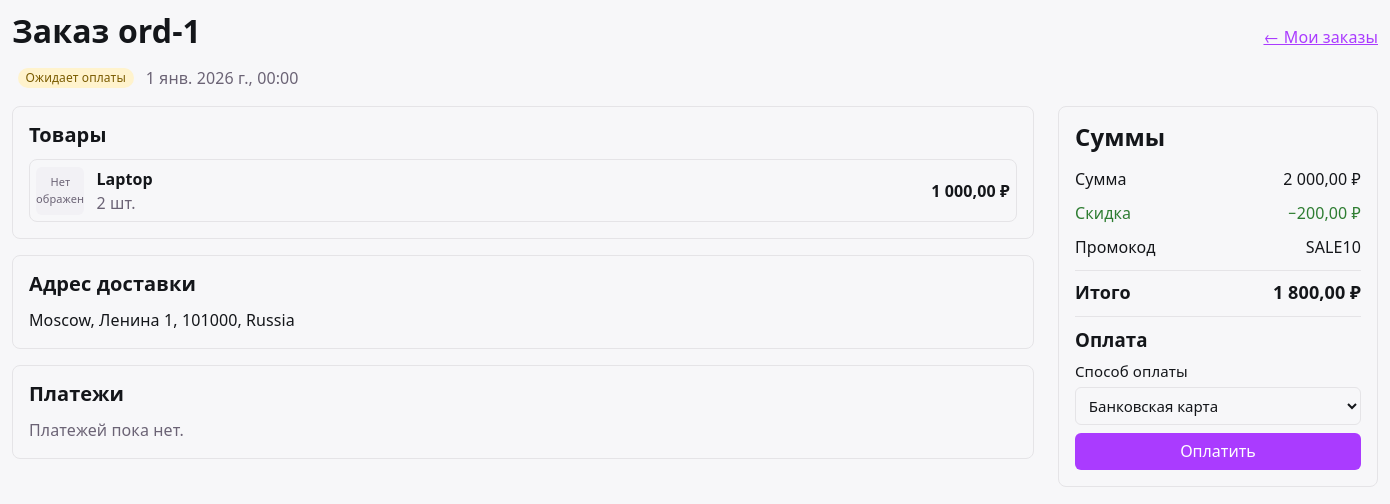
Test: OrderDetailPage › успешная оплата: payOrder, обновление заказа и toast
expect the heading "Заказ ord-1" is shown: met, box [12,12,201,50]
Select "Банковский перевод" in the dropdown labelled "Способ оплаты" at (1218, 406), box [1075,387,1361,425]
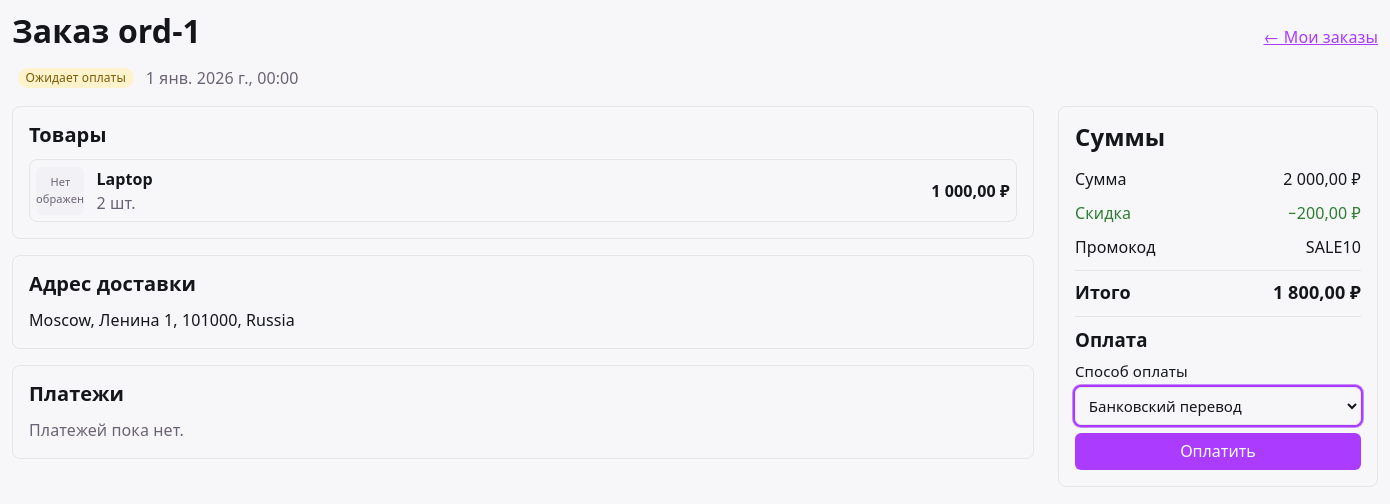
Click the button "Оплатить" at (1218, 452), box [1075,433,1361,470]
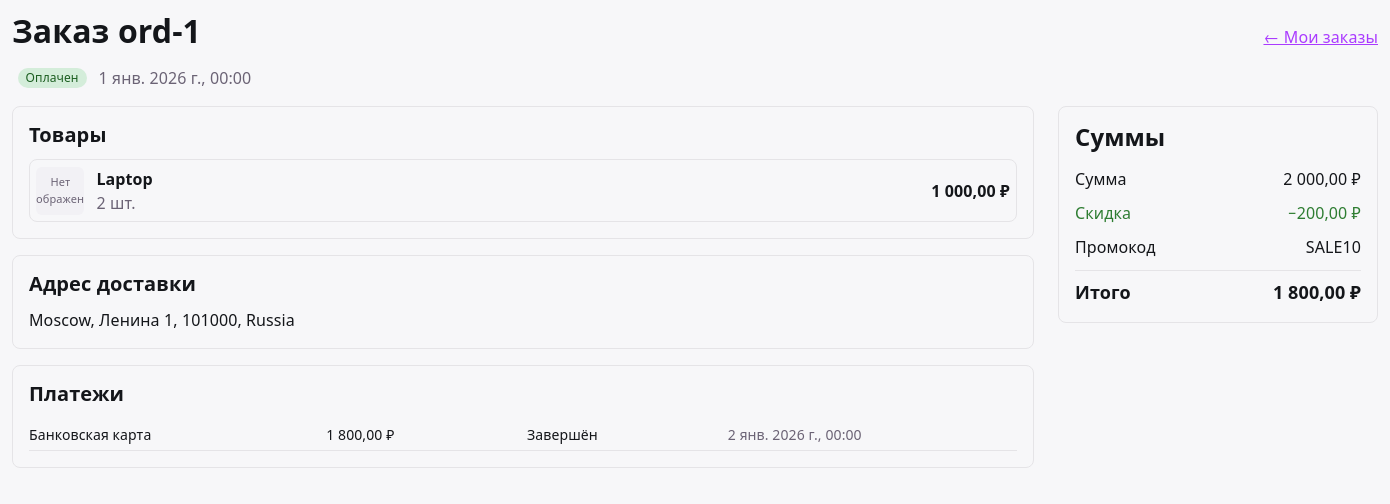
expect the text "Оплачен" is shown: met, box [18,68,87,88]
expect the button "Оплатить" is gone: met
